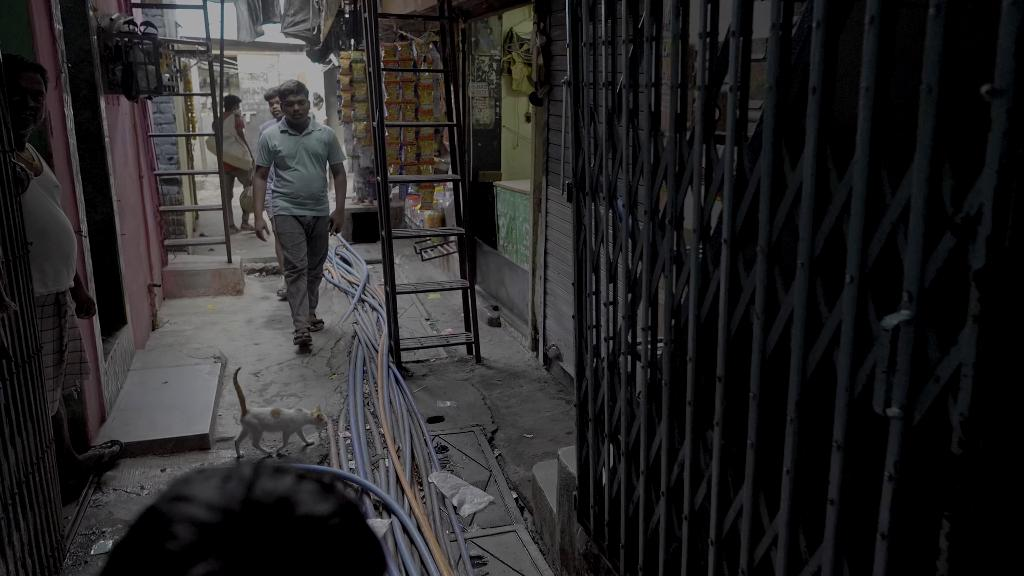garbage: (426, 468, 496, 521)
